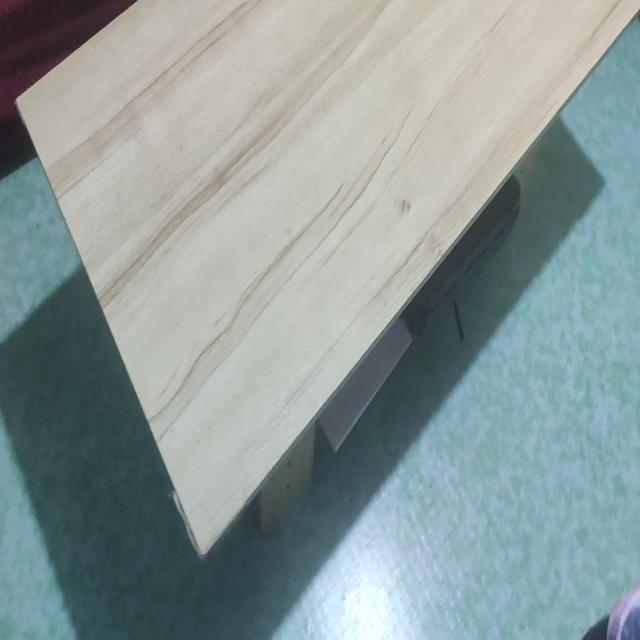table: (12, 0, 640, 541)
